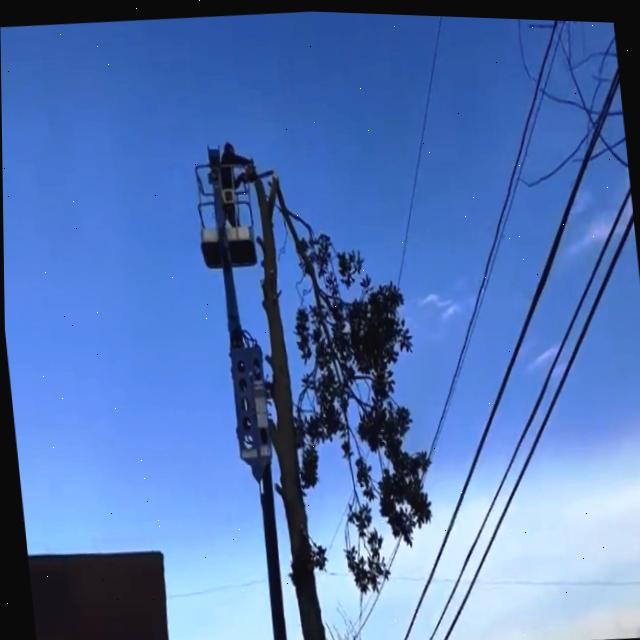obstruction: (277, 186, 430, 592)
wires: (401, 151, 588, 640), (430, 217, 614, 632), (465, 210, 633, 592), (426, 16, 566, 461), (396, 13, 443, 282), (562, 182, 630, 340), (440, 556, 480, 640), (356, 587, 379, 627), (602, 67, 619, 109), (387, 535, 398, 568)
